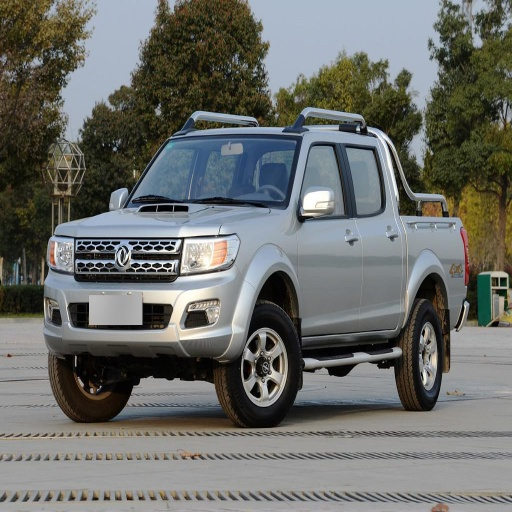back_left_door: (339, 134, 402, 330)
front_bumper: (43, 237, 256, 357)
front_glass: (122, 139, 300, 208)
front_left_door: (295, 139, 362, 336)
trunk: (405, 217, 465, 317)
